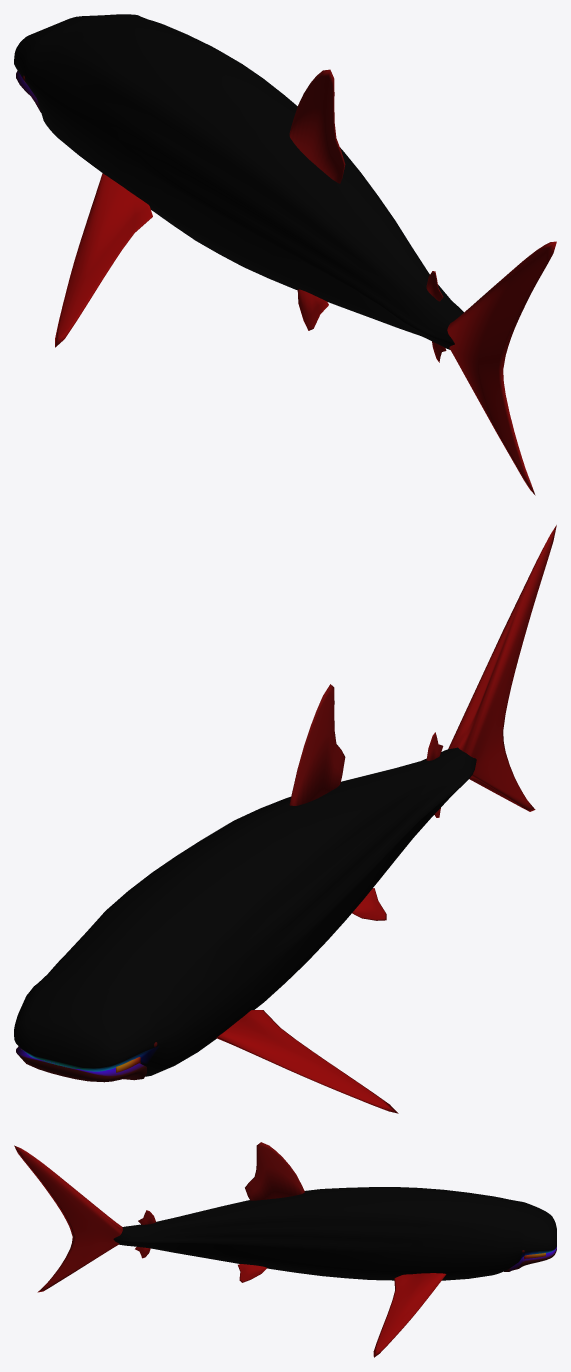
The model's file is whale_shark_game.glb.
The picture shows the model from 3 angles, top to bottom: view 1: azimuth 30°, elevation 25°; view 2: azimuth 150°, elevation 25°; view 3: azimuth 270°, elevation 25°; orthographic projection. The views are drawn at different scales.
Visible parts, largest first — view 1: whale_shark_game; view 2: whale_shark_game; view 3: whale_shark_game.
Part boxes in pixels (x1,y1,x2,y2): whale_shark_game: (14,14,556,495); whale_shark_game: (14,525,556,1113); whale_shark_game: (14,1142,556,1357).
Size of the model in its own units: 3.98 by 3.46 by 10.
